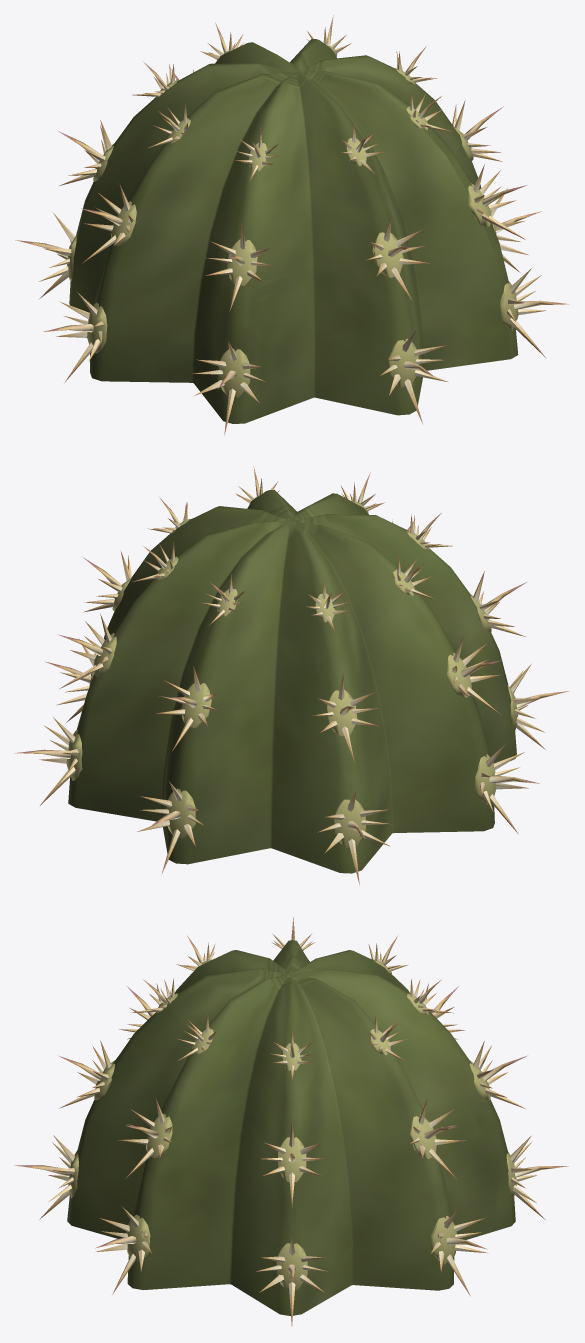
The model's file is FerroCactusTop.glb.
The picture shows the model from 3 angles, top to bottom: view 1: azimuth 30°, elevation 25°; view 2: azimuth 150°, elevation 25°; view 3: azimuth 270°, elevation 25°; orthographic projection. The views are drawn at different scales.
Visible parts, largest first — view 1: CactusBody.002; view 2: CactusBody.002; view 3: CactusBody.002.
Part boxes in pixels (x1,y1,x2,y2): CactusBody.002: (15, 15, 569, 435); CactusBody.002: (14, 466, 569, 884); CactusBody.002: (14, 917, 568, 1326).
Size of the model in its own units: 2.48 by 1.25 by 2.48.
Materials: 4 (3 with a texture image).
